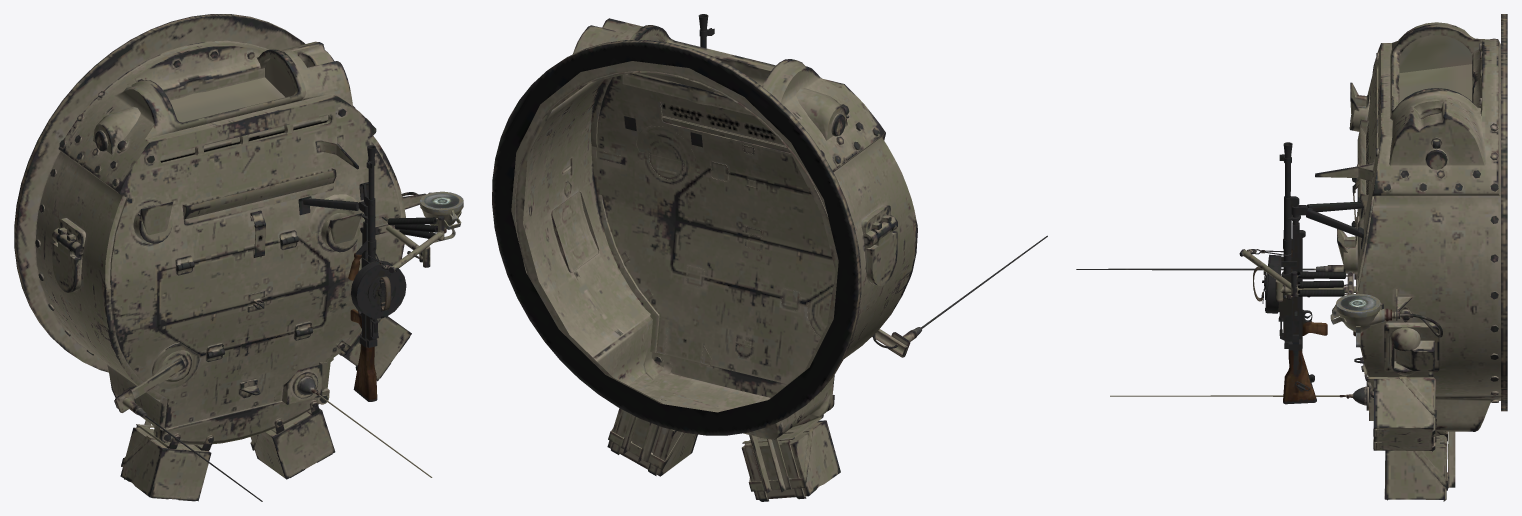
Rendered from Turret_01.glb.
3 views of the same model, side by side, from view 1: azimuth 30°, elevation 25°; view 2: azimuth 150°, elevation 25°; view 3: azimuth 270°, elevation 25° (orthographic). The views are drawn at different scales.
Visible parts, largest first — view 1: set_0_group_0; view 2: set_0_group_0; view 3: set_0_group_0.
Part boxes in pixels (box(x1,y1,x2,y2)): set_0_group_0: box(14, 14, 463, 501); set_0_group_0: box(492, 14, 1047, 501); set_0_group_0: box(1076, 14, 1507, 501).
Bounding box in the file's own units: 1.84 × 2.02 × 1.8.
Materials: 1 (1 with a texture image).
